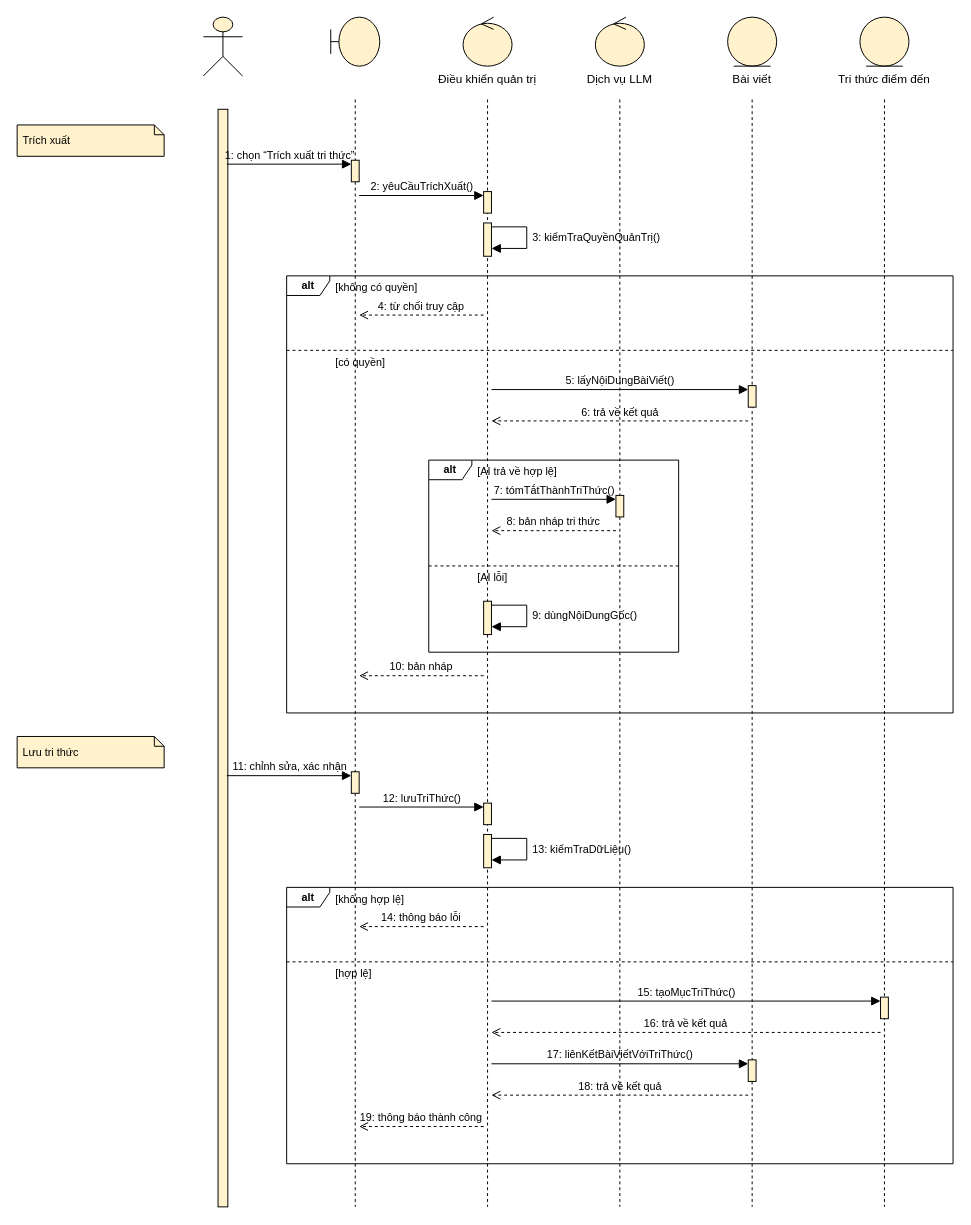
The diagram is 971 pixels wide and 1225 high, and some of its shapes have lost their labels. Each missing label, with the centre of its shape:
Giao diện quản trị: [355,41]
Quản trị viên: [222,46]
